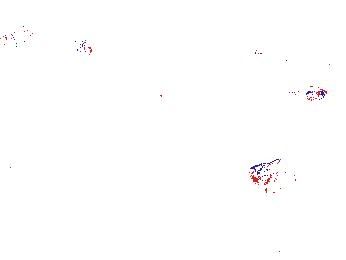X-ray fish: (248, 158, 292, 191), (10, 15, 36, 37), (1, 31, 29, 51), (85, 220, 100, 243)
glassfish: (92, 83, 191, 134), (145, 79, 222, 139)
red belly glassfish: (285, 85, 329, 103), (72, 40, 94, 58)
redtail glassfish: (282, 53, 343, 80)
